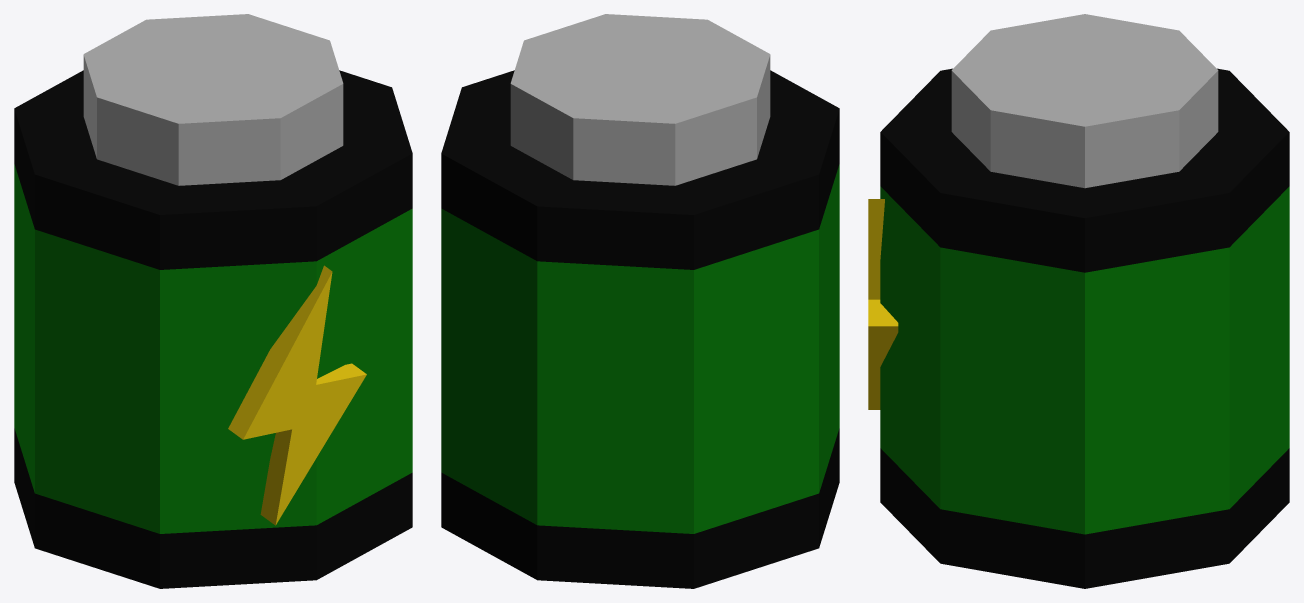
Rendered from pilha.fbx.
3 views of the same model, side by side, from view 1: azimuth 30°, elevation 25°; view 2: azimuth 150°, elevation 25°; view 3: azimuth 270°, elevation 25° (orthographic).
Parts seen in each view (by area): view 1: Cylinder, Cube; view 2: Cylinder; view 3: Cylinder, Cube.
Boxes of the visible parts, x1,y1,x2,y2 form: Cylinder: [14, 14, 412, 588]; Cube: [228, 265, 366, 525]; Cylinder: [441, 14, 839, 588]; Cylinder: [880, 14, 1289, 588]; Cube: [868, 199, 898, 409].
Bounding box in the file's own units: 200 × 233 × 206.
